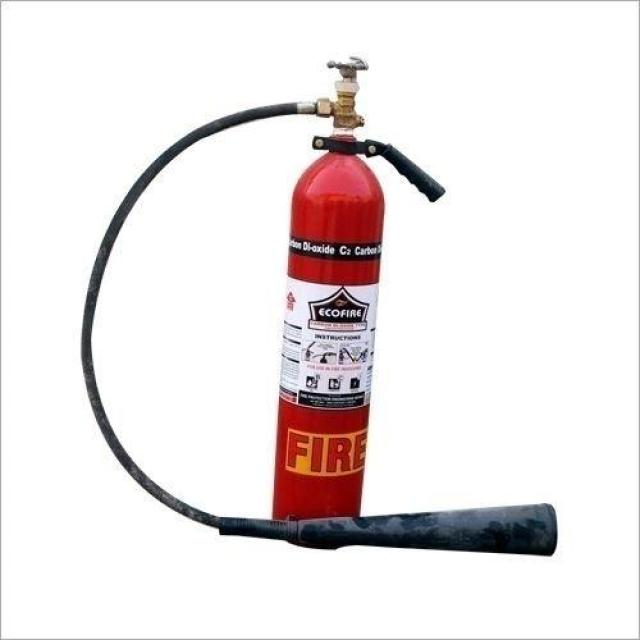fire_extinguisher: (74, 50, 561, 561)
